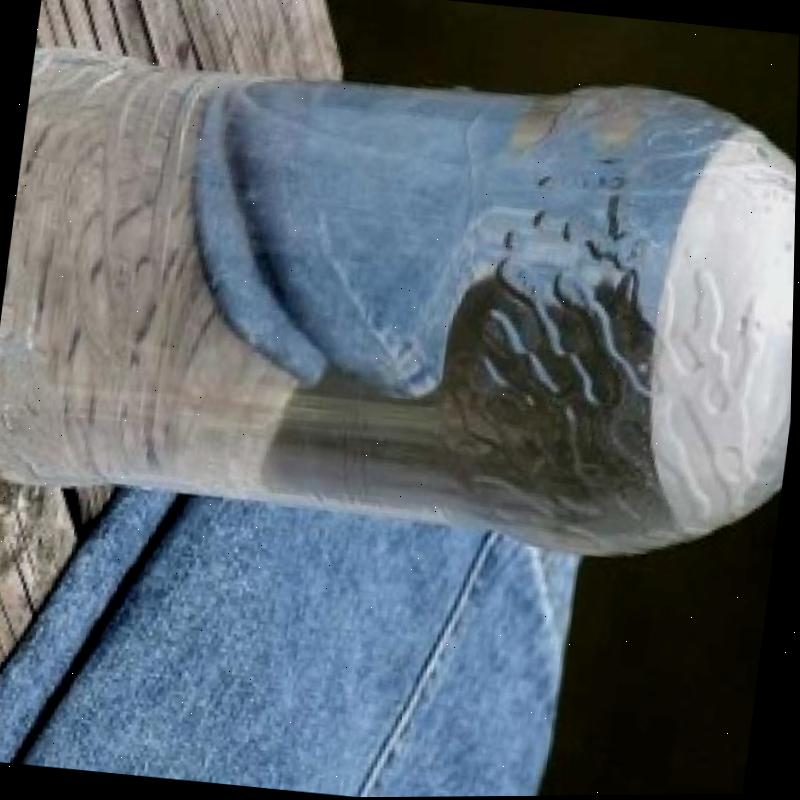botella: (0, 23, 800, 588)
